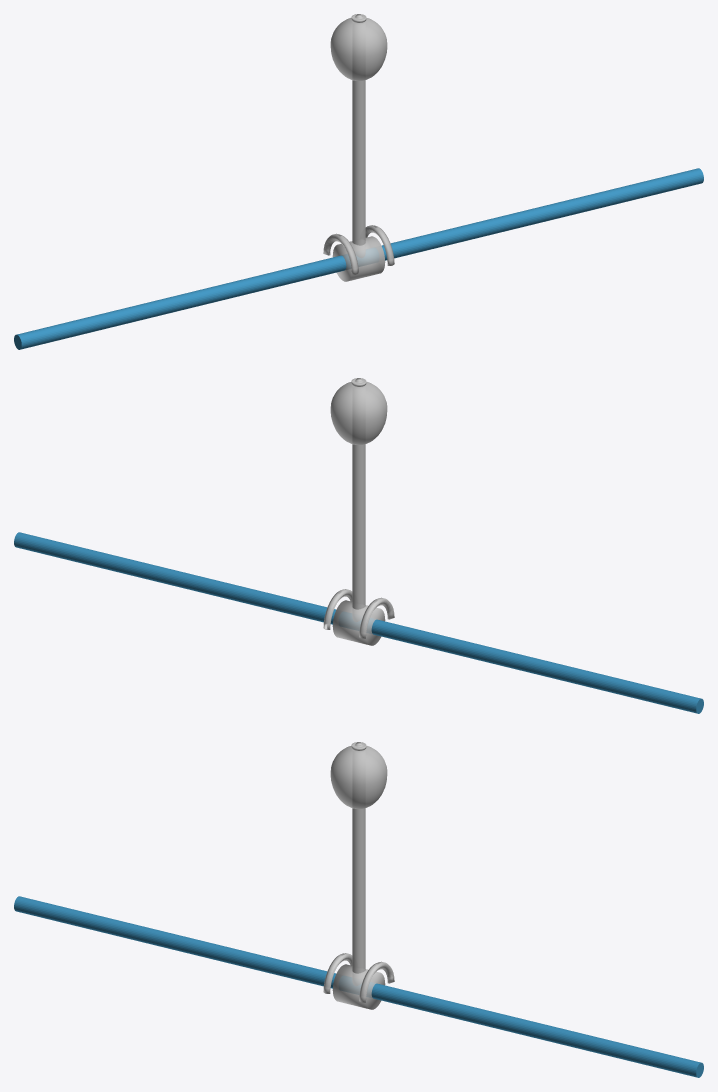
Rendered from simple_lever_transformed.obj.
3 views of the same model, one above another, from view 1: azimuth 30°, elevation 25°; view 2: azimuth 150°, elevation 25°; view 3: azimuth 330°, elevation 25° (orthographic).
Visible parts, largest first — view 1: Mesh_0.008; view 2: Mesh_0.008; view 3: Mesh_0.008.
Boxes of the visible parts, left/top/right/bottom form: Mesh_0.008: left=14, top=14, right=703, bottom=349; Mesh_0.008: left=14, top=378, right=703, bottom=713; Mesh_0.008: left=14, top=742, right=703, bottom=1077.
Size of the model in its own units: 5.47 by 2 by 0.4182.
